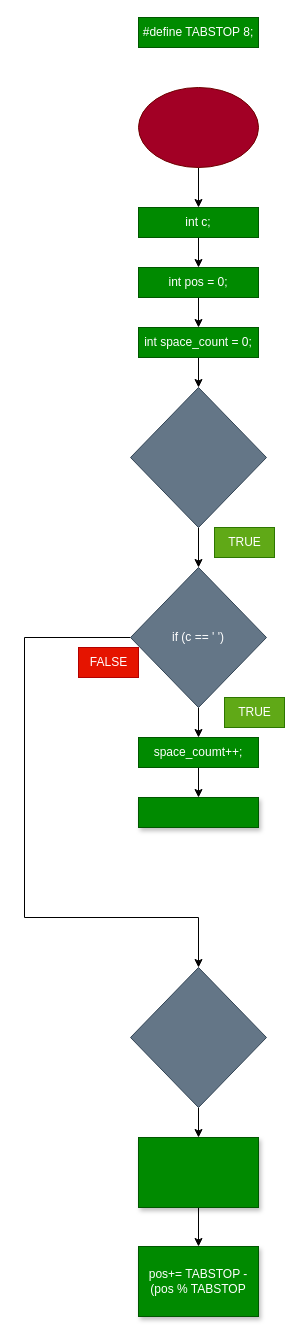
Image size: 302x1341. Some labels were removed from this diagram. Here are the shapes that lost their labels. From the top down, the centre of each, then its label:
(x=198, y=127): start
(x=198, y=457): while((c = getchat()) != EOF)
(x=199, y=813): pos++;
(x=198, y=1037): else if (c == '\t')
(x=199, y=1173): space_count += TABSTOP - (pos % TABSTOP
